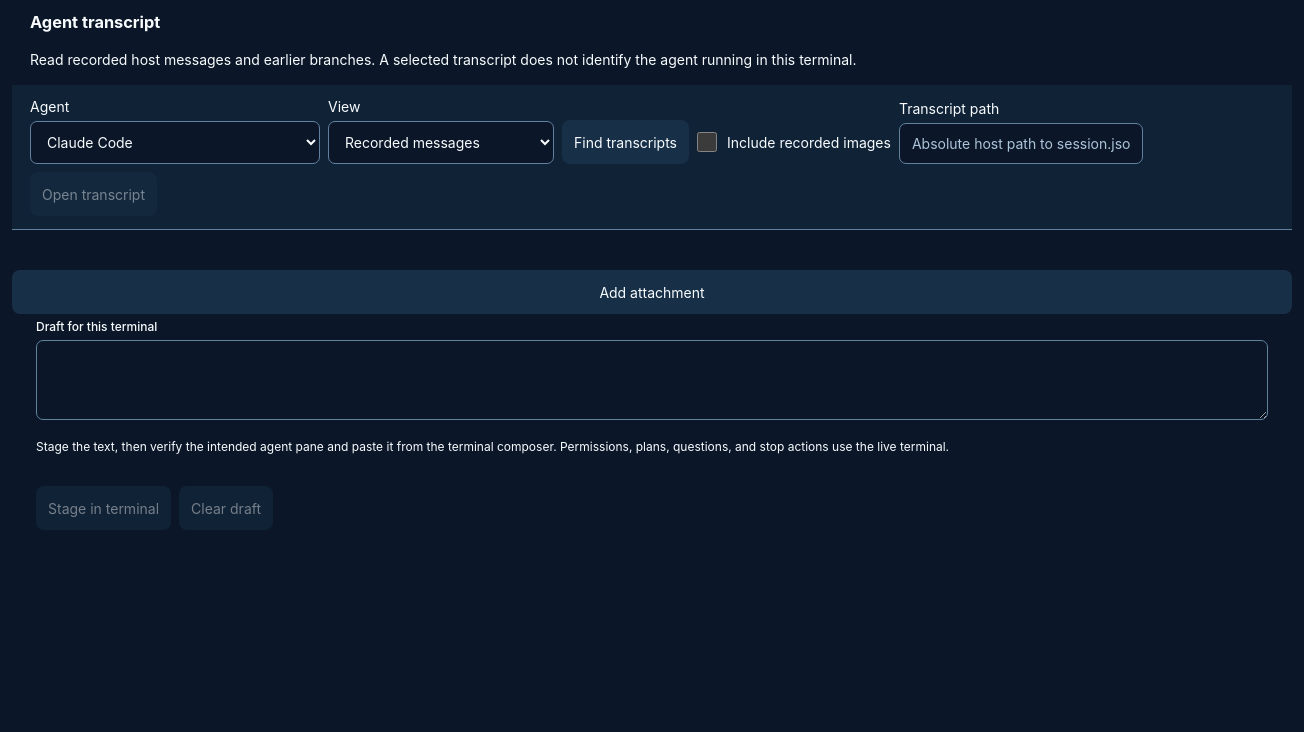
Test: reads selected host transcript, pages by returned cursor, and does not fetch embedded images
The image size is (1304, 732).
Type "/host/session.jsonl" into the field labelled "Transcript path".
click(1021, 144); type("/host/session.jsonl")  # box [899,124,1143,164]
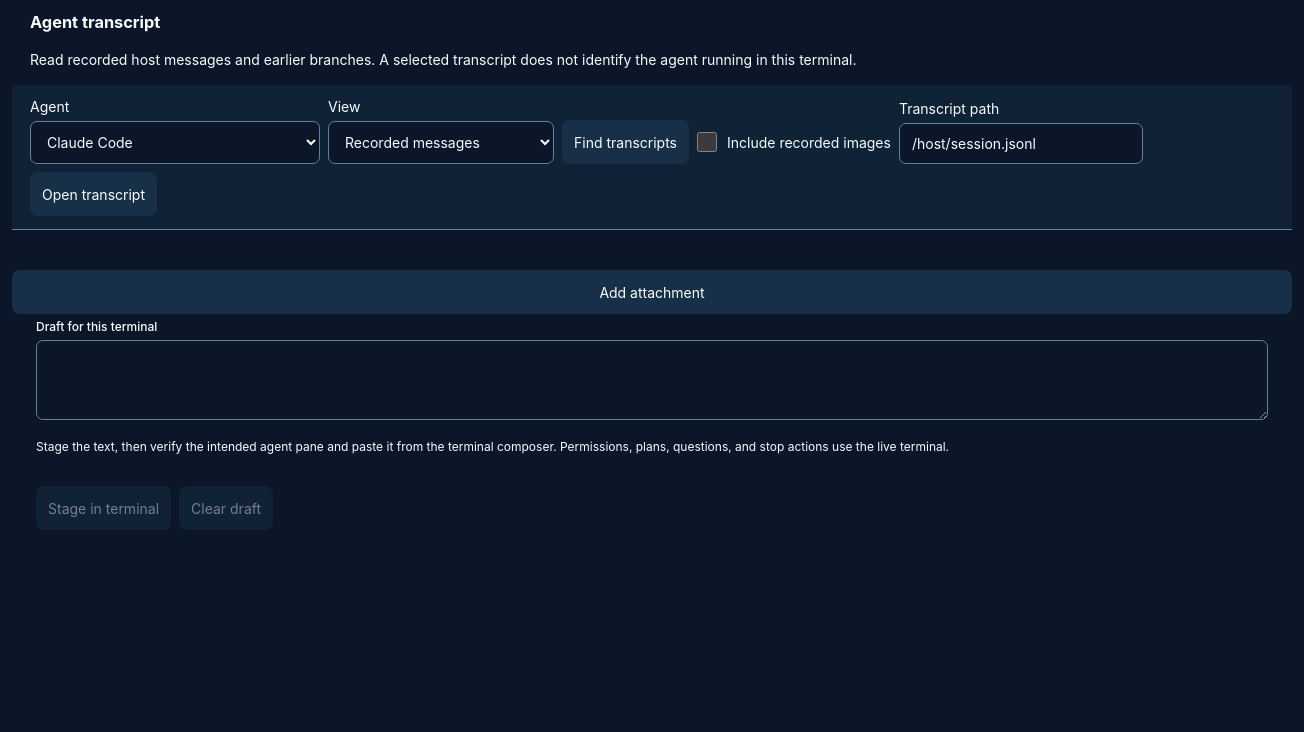
Click the button "Open transcript".
click(94, 194)  # box [30,172,157,216]
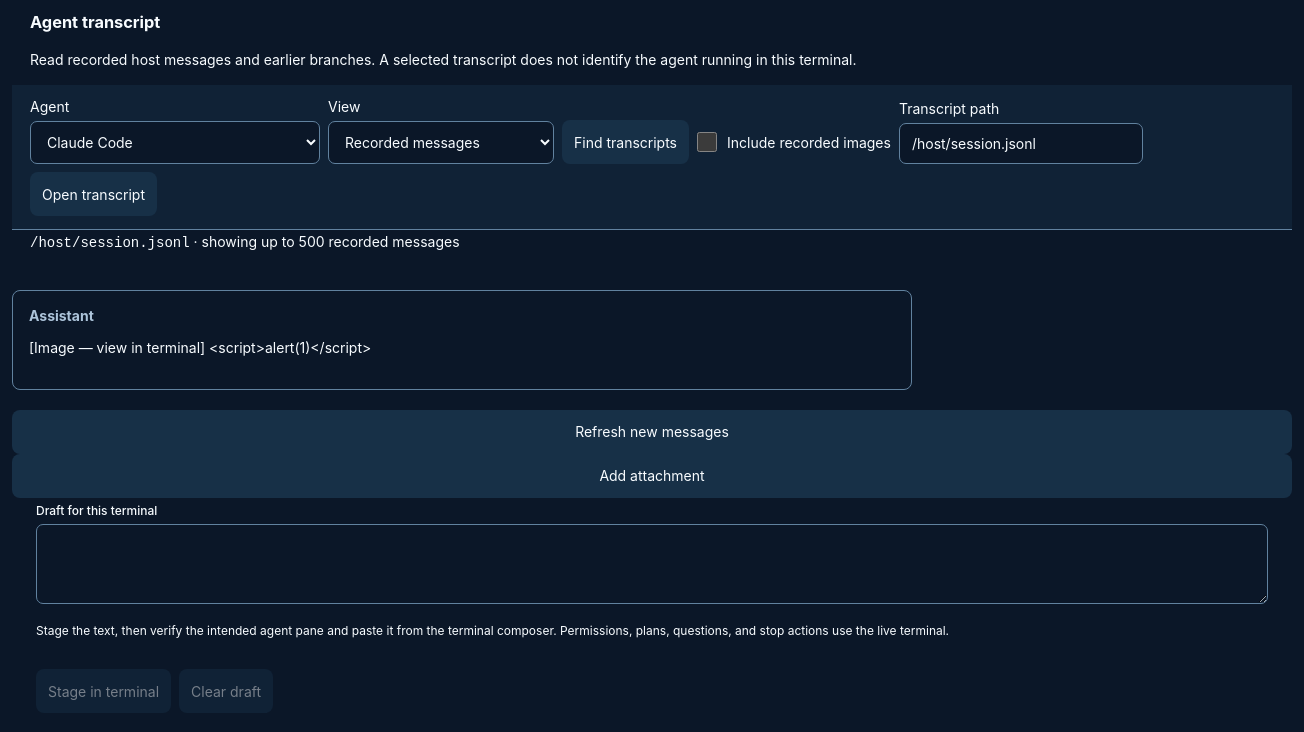
Expected: the text "[Image — view in terminal]" is shown, [29,339,205,356]
Click the button "Refresh new messages".
click(652, 432)  # box [12,410,1292,454]
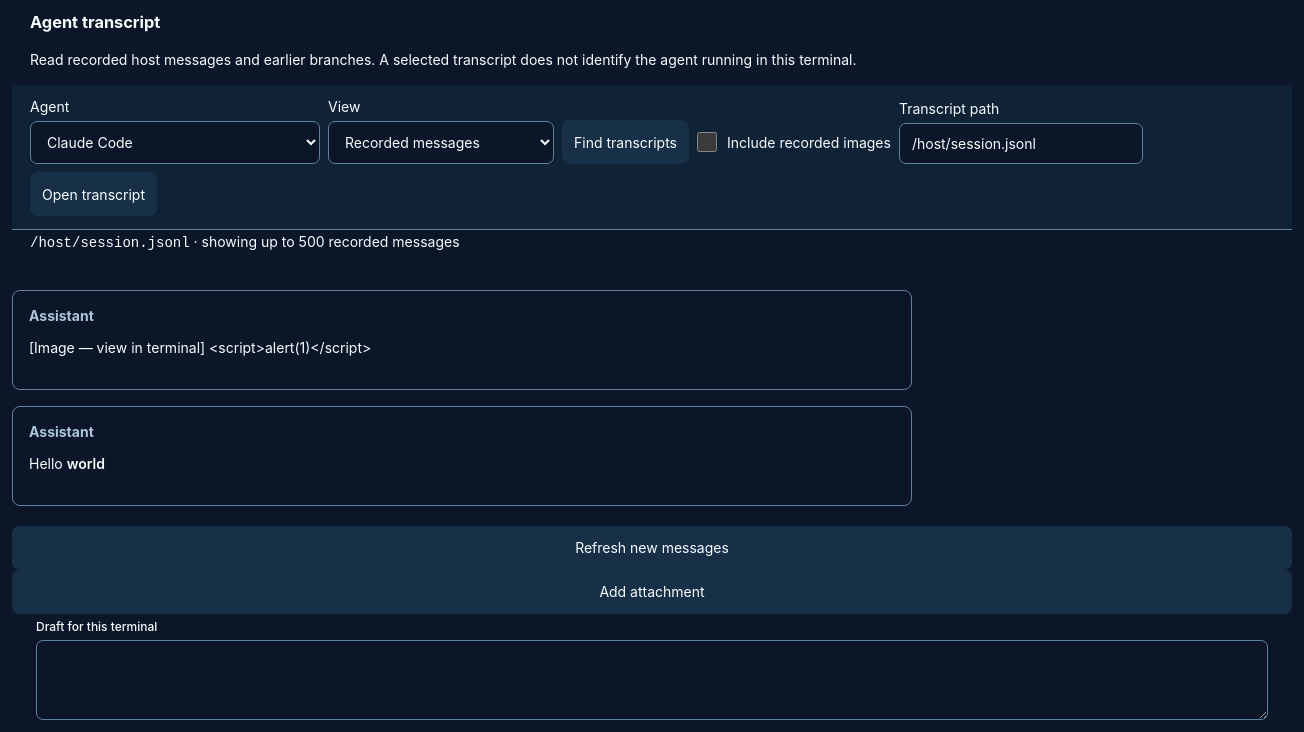
Expected: the text "world" is shown, [67,455,105,472]
